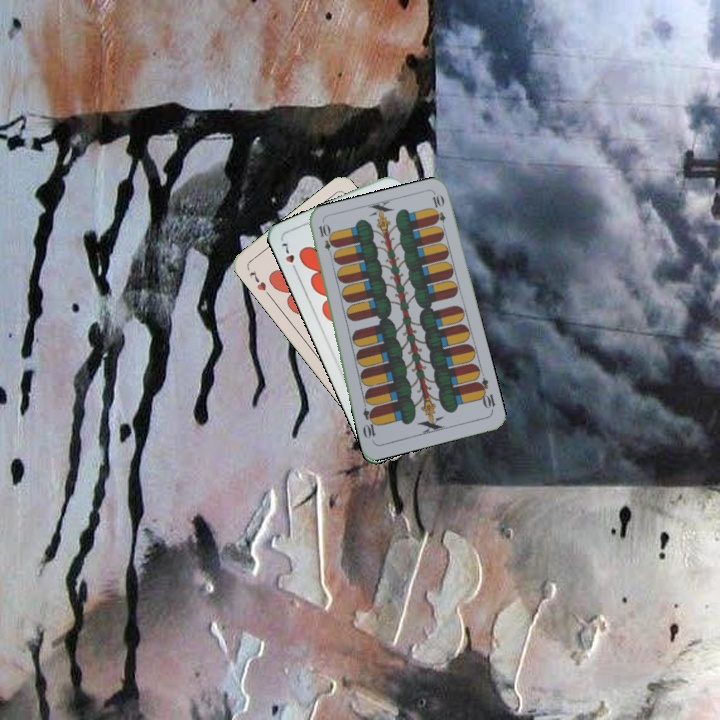E10: (472, 374, 498, 414), (315, 220, 336, 260)
H7: (245, 267, 273, 299), (278, 239, 300, 276)
